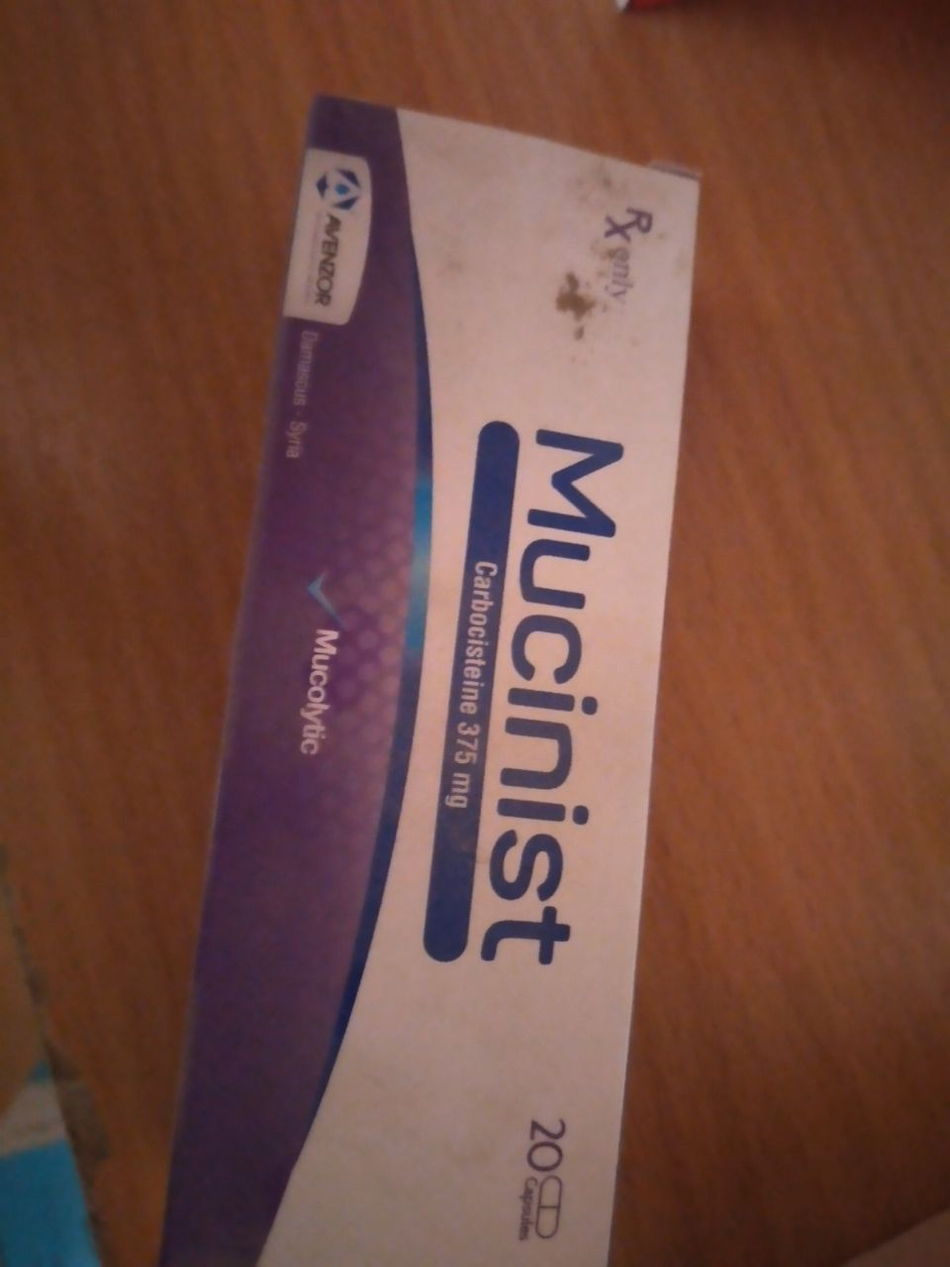Medicine: (152, 86, 716, 1267)
